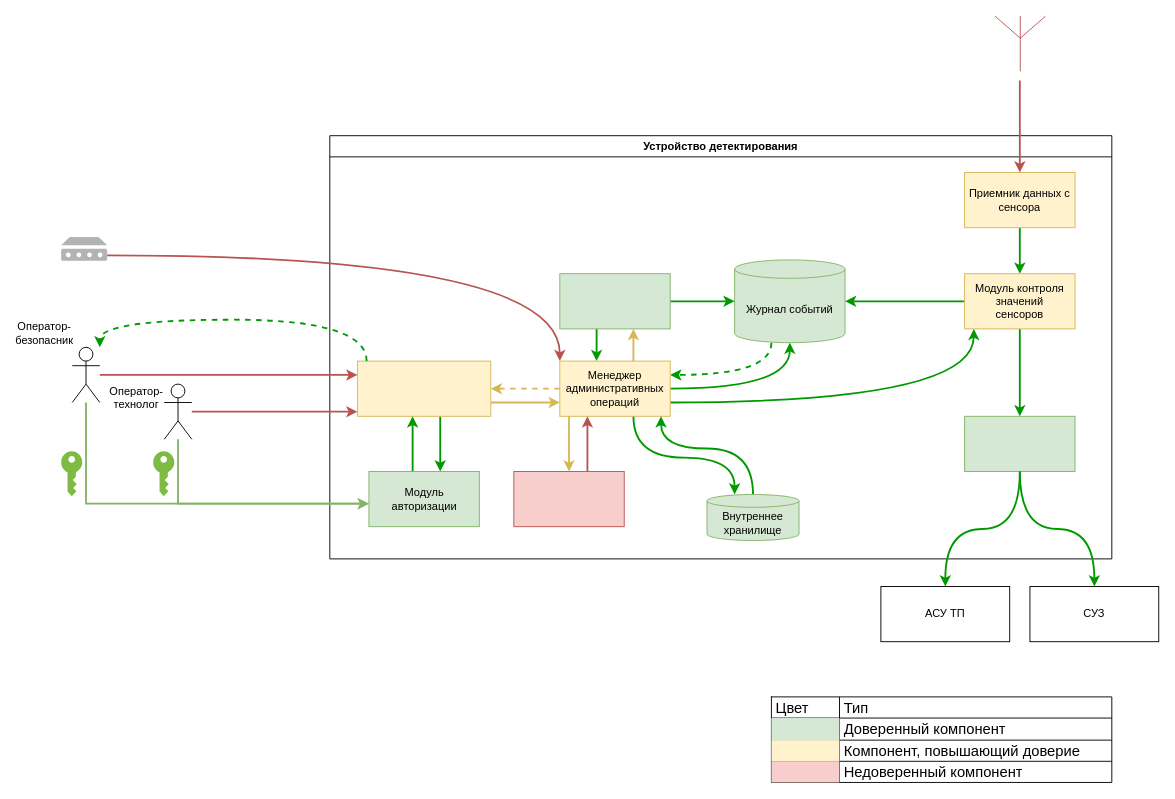
This 1175x799 diagram has some shape labels left out. Each missing label, with the centre of its shape:
"Внешнее устройство хранения" goes at (84,248).
"Интерфейс для административных операций" goes at (423,388).
"Модуль обновления" goes at (568,499).
"Модуль отправки данных" goes at (1019,443).
"Модуль самодиагностики" goes at (614,301).
